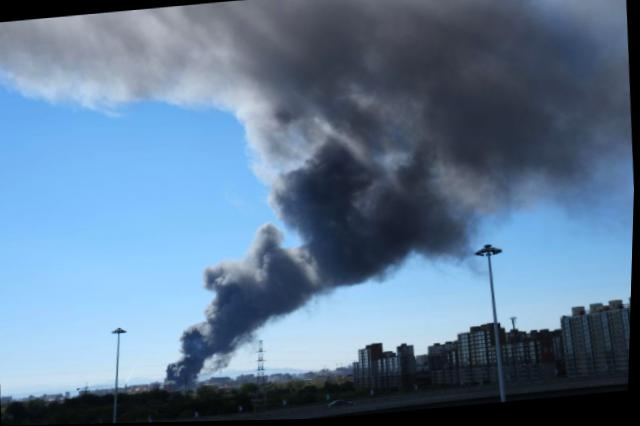smoke: (372, 111, 631, 242), (435, 0, 633, 131), (0, 12, 123, 135), (232, 117, 370, 219), (114, 8, 222, 134), (220, 0, 318, 124), (254, 214, 384, 303), (369, 0, 441, 116), (312, 0, 381, 121), (201, 266, 265, 345), (171, 329, 208, 381)
